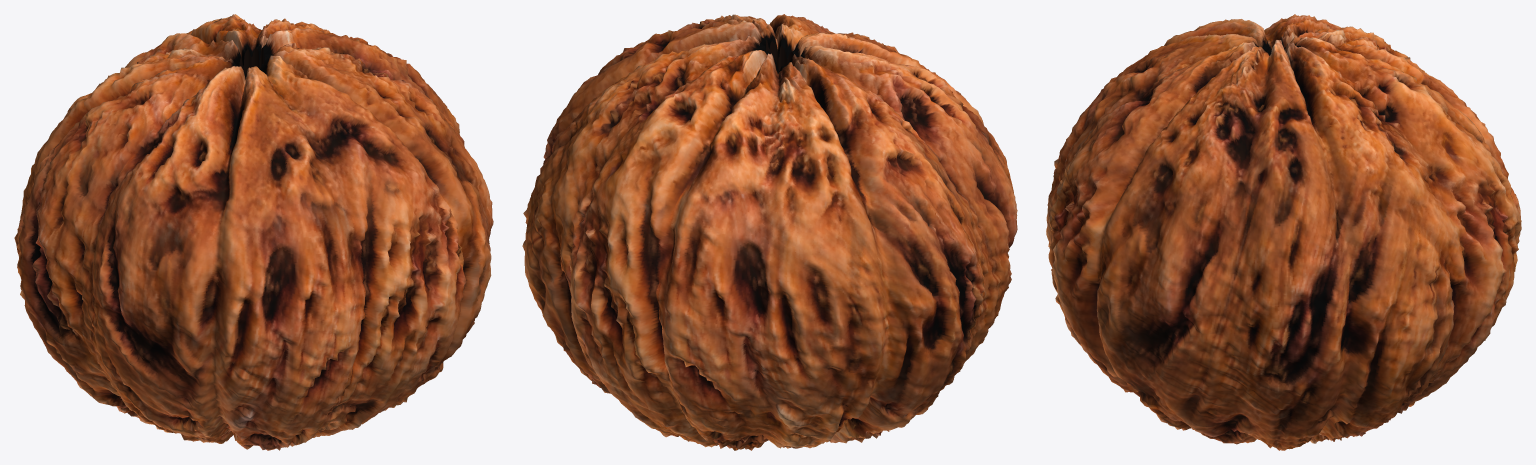
The model's file is 5-mukhi-nepal.glb.
The picture shows the model from 3 angles, left to right: view 1: azimuth 30°, elevation 25°; view 2: azimuth 150°, elevation 25°; view 3: azimuth 270°, elevation 25°; orthographic projection. The views are drawn at different scales.
Visible parts, largest first — view 1: seed; view 2: seed; view 3: seed.
Boxes of the visible parts, x1,y1,x2,y2 form: seed: (14, 14, 493, 450); seed: (522, 14, 1017, 450); seed: (1046, 14, 1521, 450).
Bounding box in the file's own units: 0.0192 × 0.0173 × 0.0188.
1 material, 1 textured.
